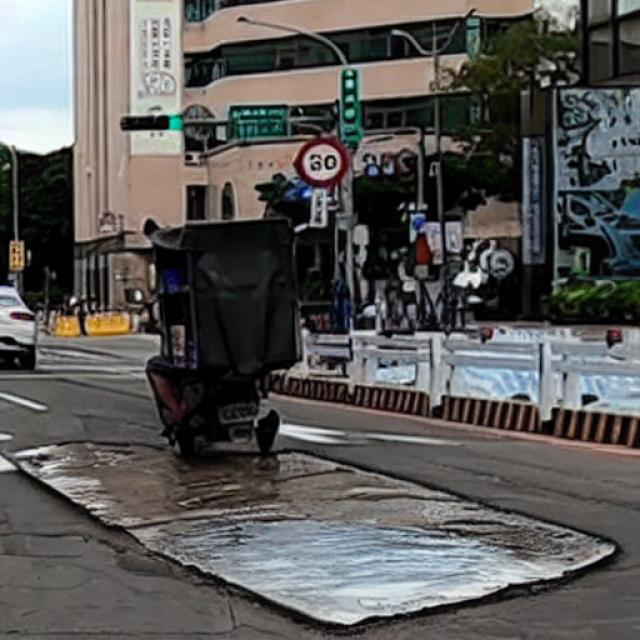puddle: (15, 441, 617, 626)
